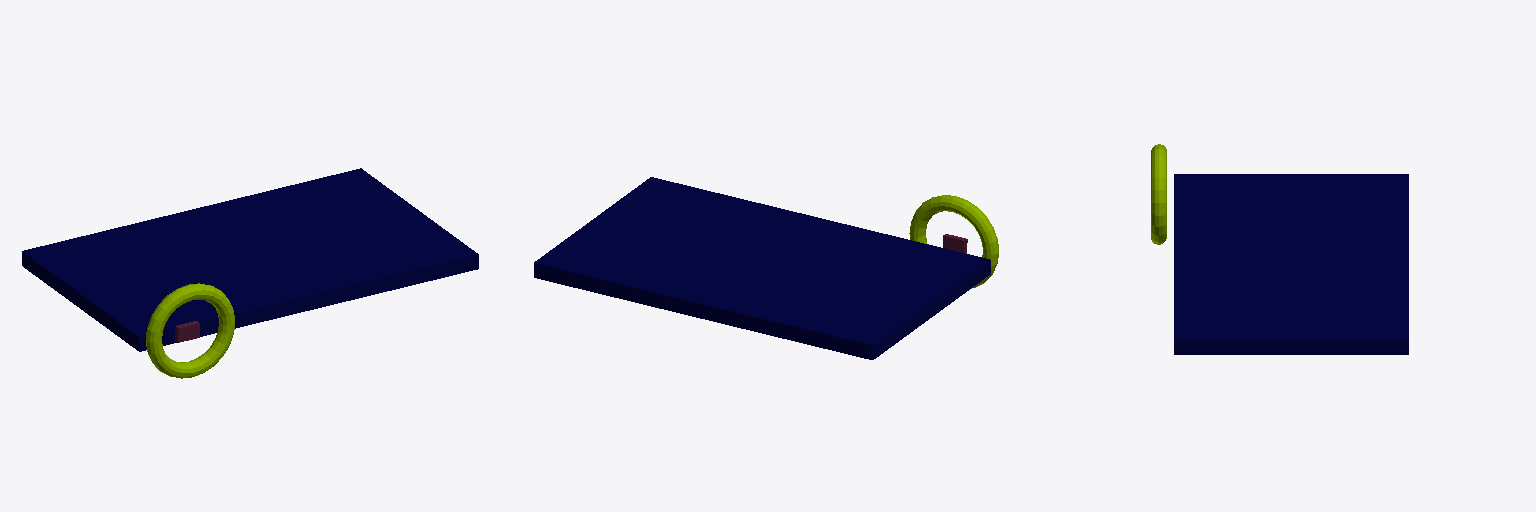
Rendered from floortire.obj.
3 renders of one model, left to right at view 1: azimuth 30°, elevation 25°; view 2: azimuth 150°, elevation 25°; view 3: azimuth 270°, elevation 25°, orthographic.
Visible parts, largest first — view 1: floor_001, l_f_tire_002; view 2: floor_001, l_f_tire_002; view 3: floor_001, l_f_tire_002.
Part boxes in pixels (x1,y1,x2,y2): floor_001: (22, 168, 478, 351); l_f_tire_002: (146, 283, 234, 378); floor_001: (534, 177, 990, 359); l_f_tire_002: (909, 195, 998, 288); floor_001: (1174, 174, 1408, 354); l_f_tire_002: (1151, 144, 1166, 244).
Bounding box in the file's own units: 25.25 × 6.52 × 16.65.